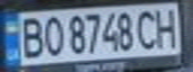4: (100, 9, 121, 52)
7: (81, 10, 103, 54)
8: (63, 11, 87, 55), (115, 8, 139, 52)
B: (15, 13, 48, 60)
C: (136, 7, 160, 51)
H: (151, 6, 181, 48)
O: (39, 14, 66, 57)
